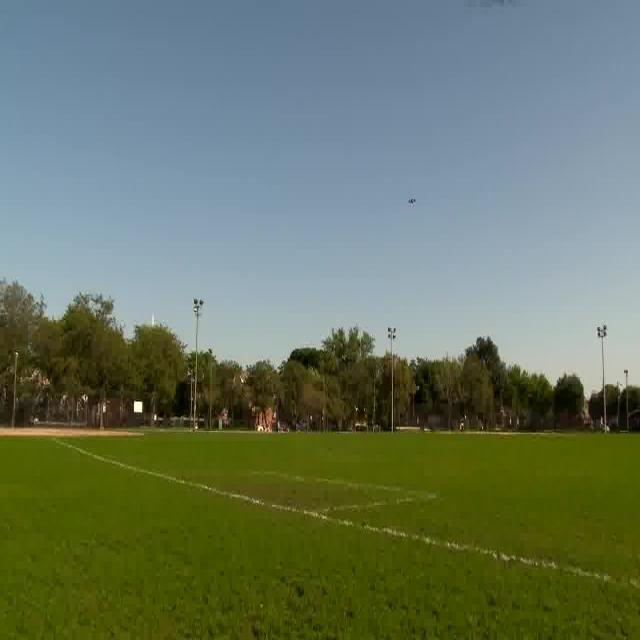drone: (402, 184, 420, 217)
